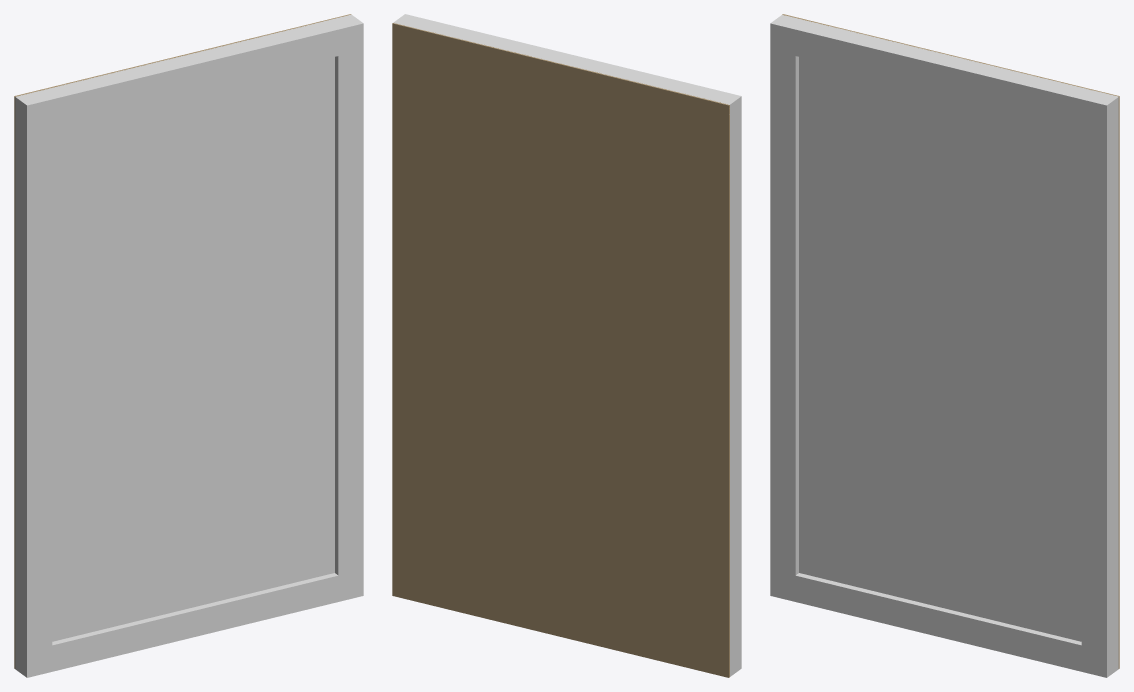
The model's file is Painting.fbx.
3 renders of one model, left to right at view 1: azimuth 30°, elevation 25°; view 2: azimuth 150°, elevation 25°; view 3: azimuth 330°, elevation 25°, orthographic.
Parts seen in each view (by area): view 1: Painting; view 2: Painting; view 3: Painting.
Boxes of the visible parts, x1,y1,x2,y2 form: Painting: [14, 14, 363, 677]; Painting: [392, 14, 741, 677]; Painting: [770, 14, 1119, 677].
Bounding box in the file's own units: 80 × 130 × 5.3.
